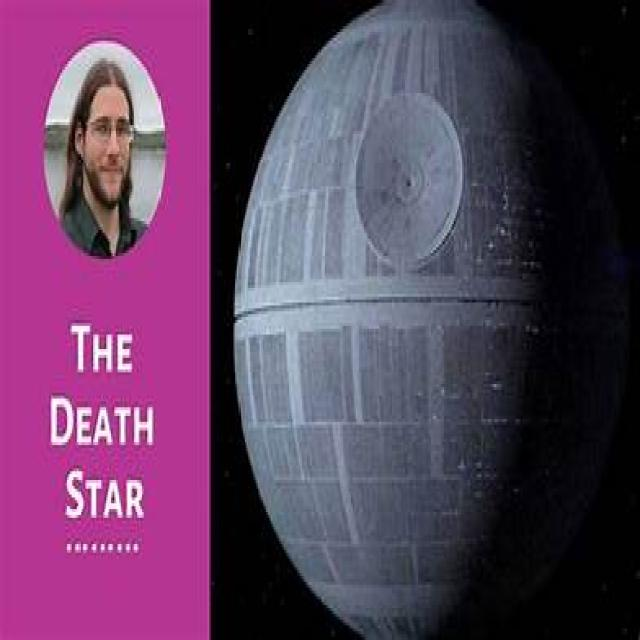deathStar: (233, 0, 620, 637)
